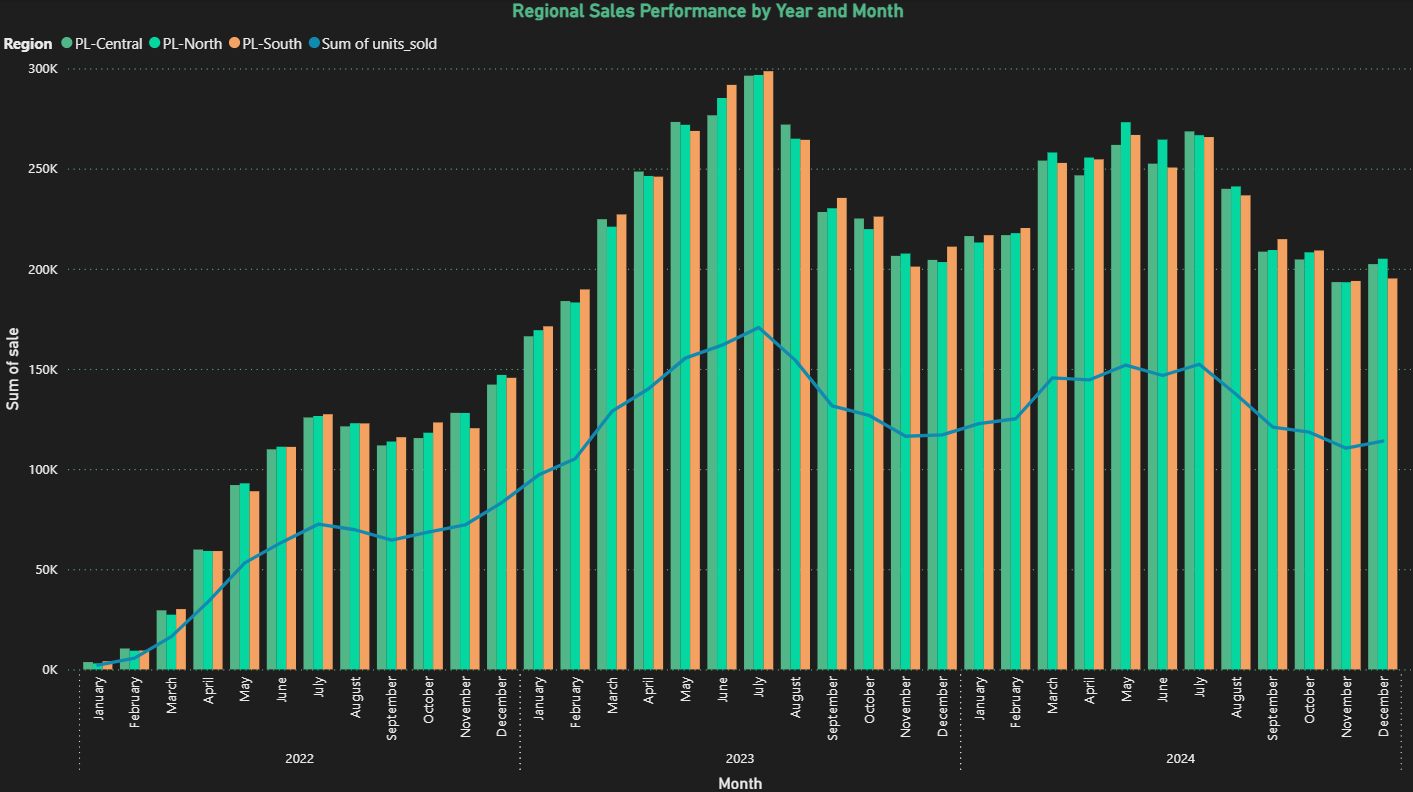

The dashboard page shown, as its layout file describes it:
{"tool":"powerbi","page":{"name":"Page 9","canvas":[1280,720],"ordinal":4},"visuals":[{"type":"lineClusteredColumnComboChart","title":"Regional Sales Performance by Year and Month","fields":{"Category":["FMCG_2022_2024.date.Variation.Date Hierarchy.Year","FMCG_2022_2024.date.Variation.Date Hierarchy.Month"],"Series":["FMCG_2022_2024.region"],"Y":["Sum(FMCG_2022_2024.sale)"],"Y2":["Sum(FMCG_2022_2024.units_sold)"]},"box":[0,0,1280.4,720.2],"z":0}]}

Visuals, with their boxes in screenshot pixels (x1, y1, x2, y2), scaled from the page's 1280x720 canvas onto the 1413x792 screenshot:
"Regional Sales Performance by Year and Month" lineClusteredColumnComboChart: 0/0/1412/791
